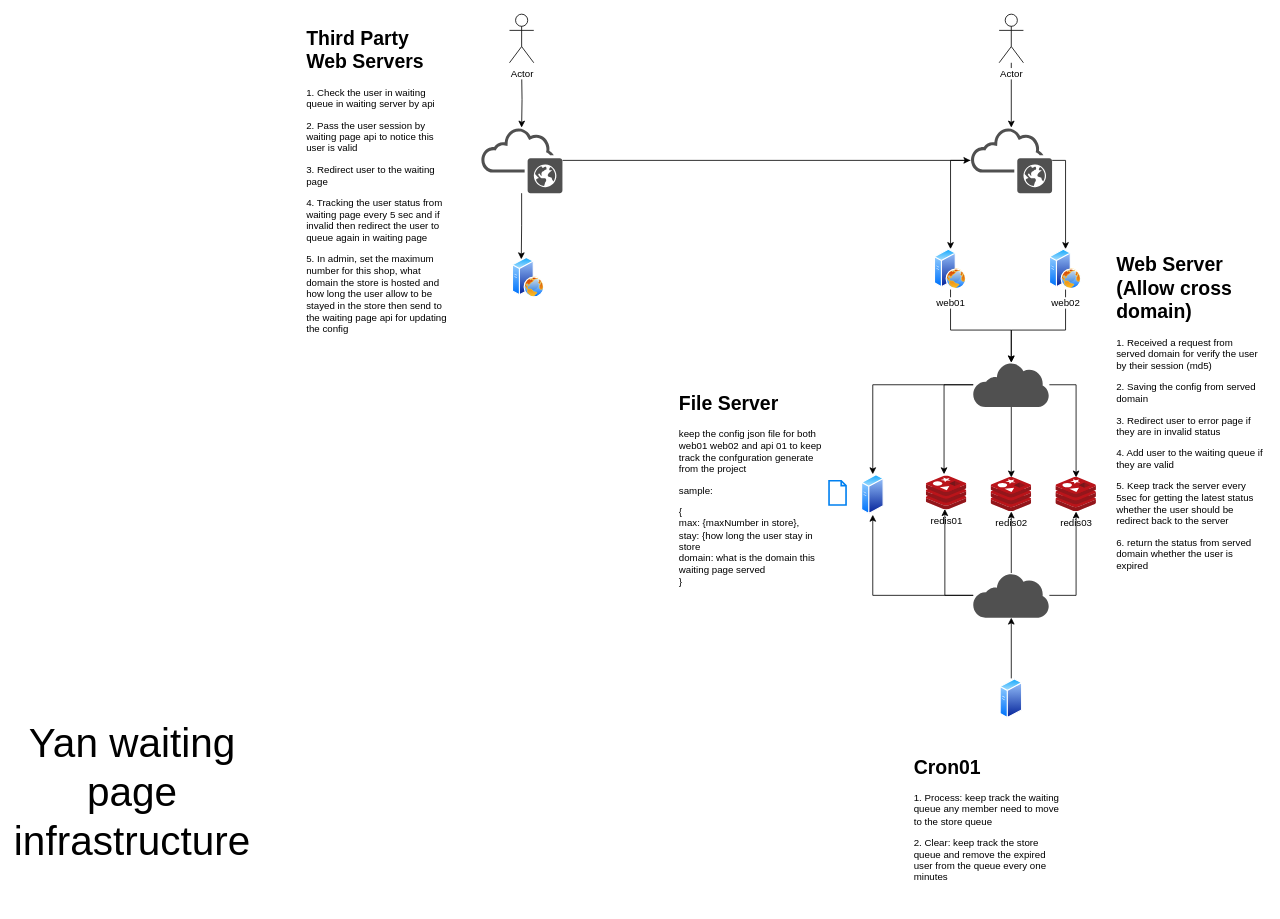
Some shapes in this 1280 by 919 pixel diagram are drawn without their labels. Each missing label, with the centre of its shape:
"api01" belongs at (x=1011, y=698).
"data.json" belongs at (x=837, y=492).
"file server" belongs at (x=872, y=494).
"third party webservers" belongs at (x=528, y=277).
